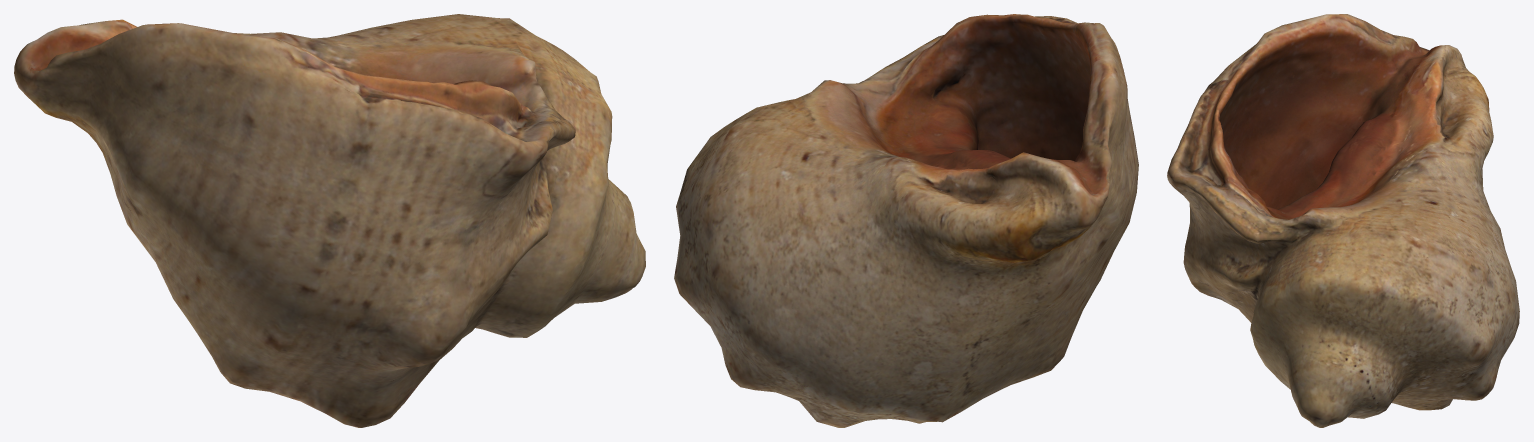
Rendered from seashell1.obj.
The picture shows the model from 3 angles, left to right: view 1: azimuth 30°, elevation 25°; view 2: azimuth 150°, elevation 25°; view 3: azimuth 270°, elevation 25°; orthographic projection. The views are drawn at different scales.
Parts seen in each view (by area): view 1: seashell_rapan_mesh.002; view 2: seashell_rapan_mesh.002; view 3: seashell_rapan_mesh.002.
Boxes of the visible parts, x1,y1,x2,y2 form: seashell_rapan_mesh.002: (14,14,645,427); seashell_rapan_mesh.002: (674,14,1138,427); seashell_rapan_mesh.002: (1167,14,1519,427).
Bounding box in the file's own units: 6.02 × 4.92 × 4.91.
